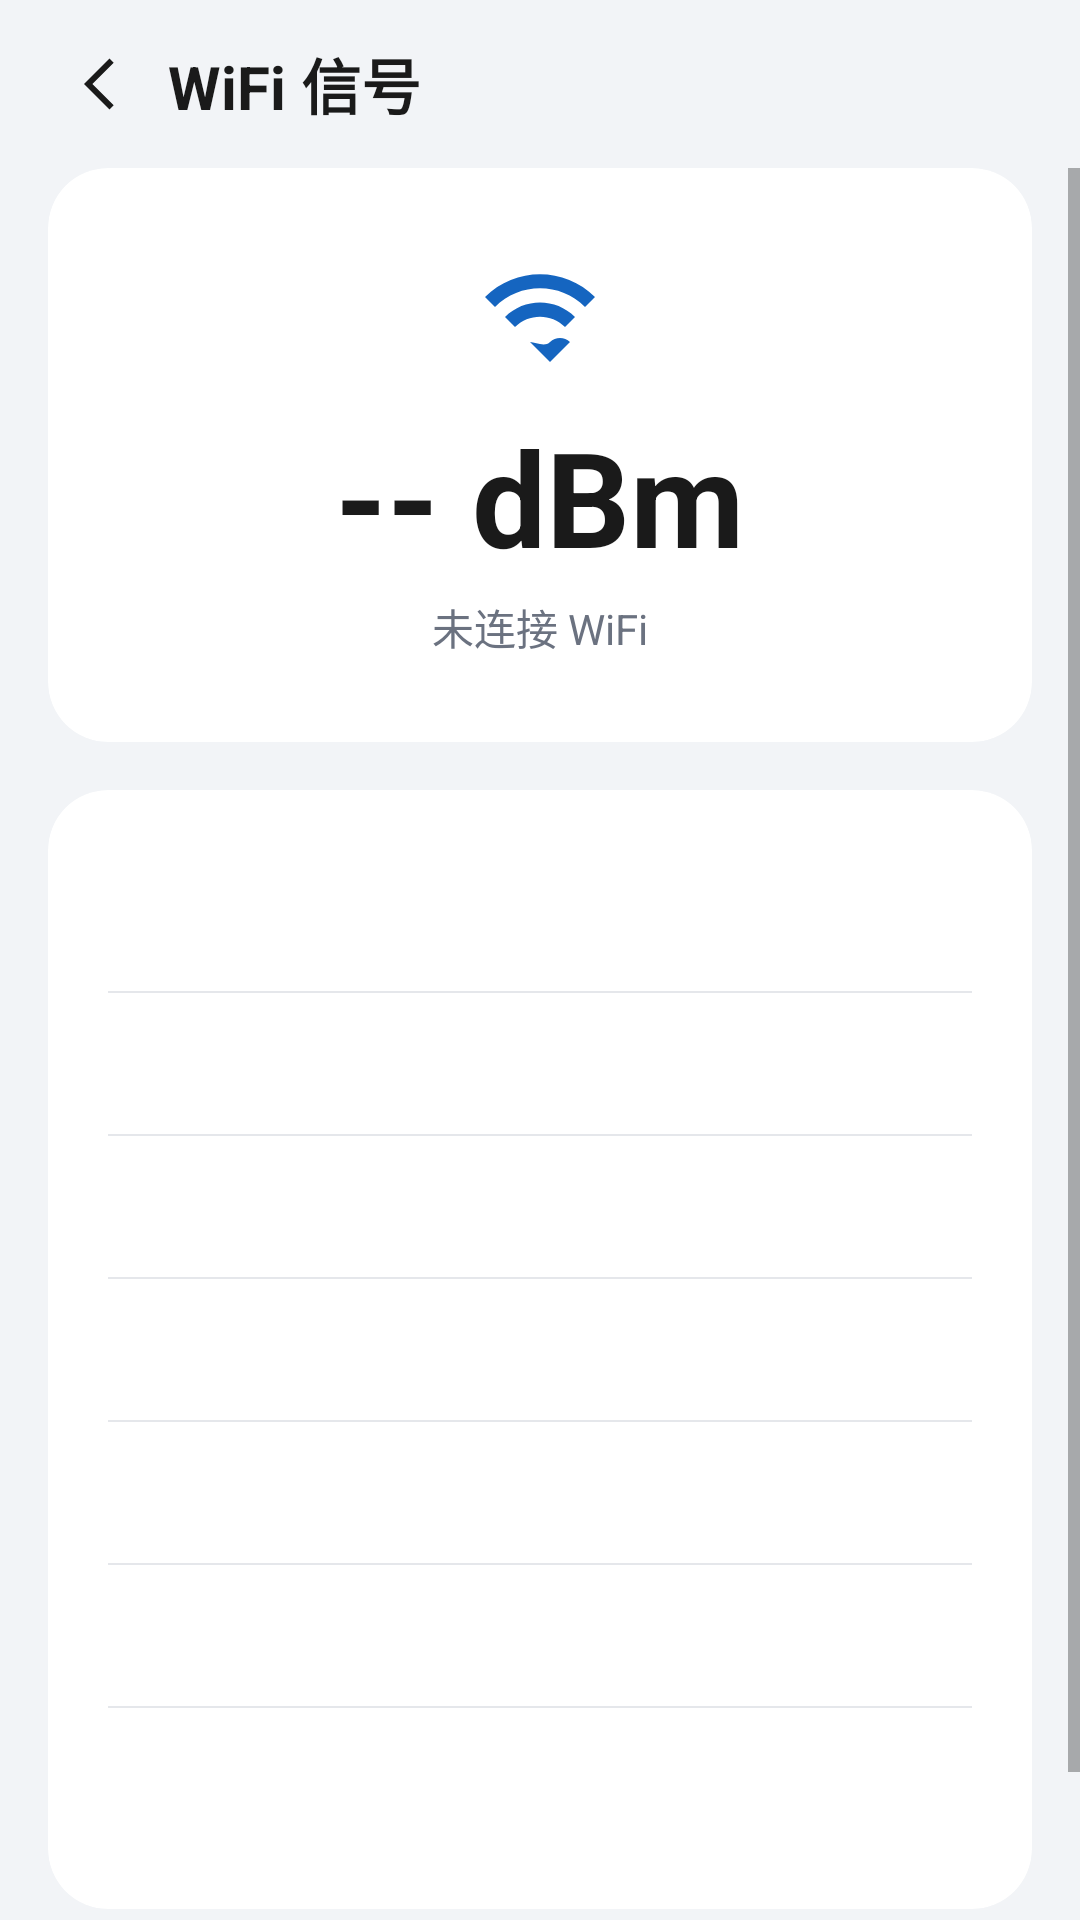

Named icons in this screenshot (1080 x 1920) and their centers, [x,y]:
返回: [99,84]
